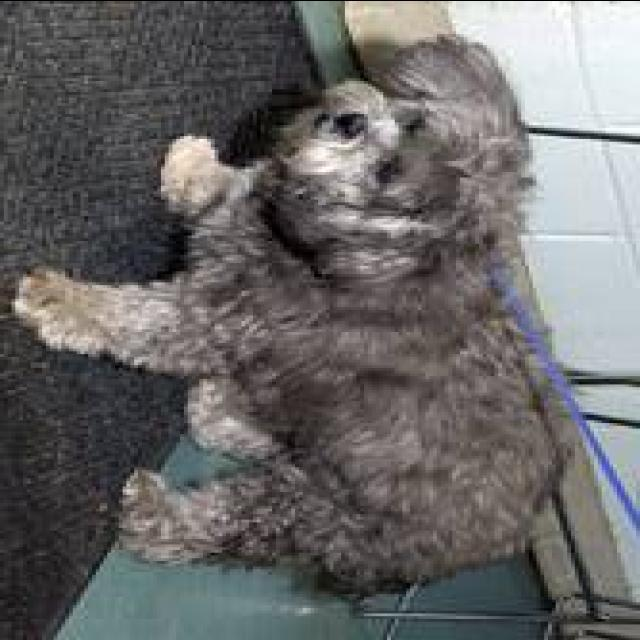dog: (11, 38, 593, 608)
